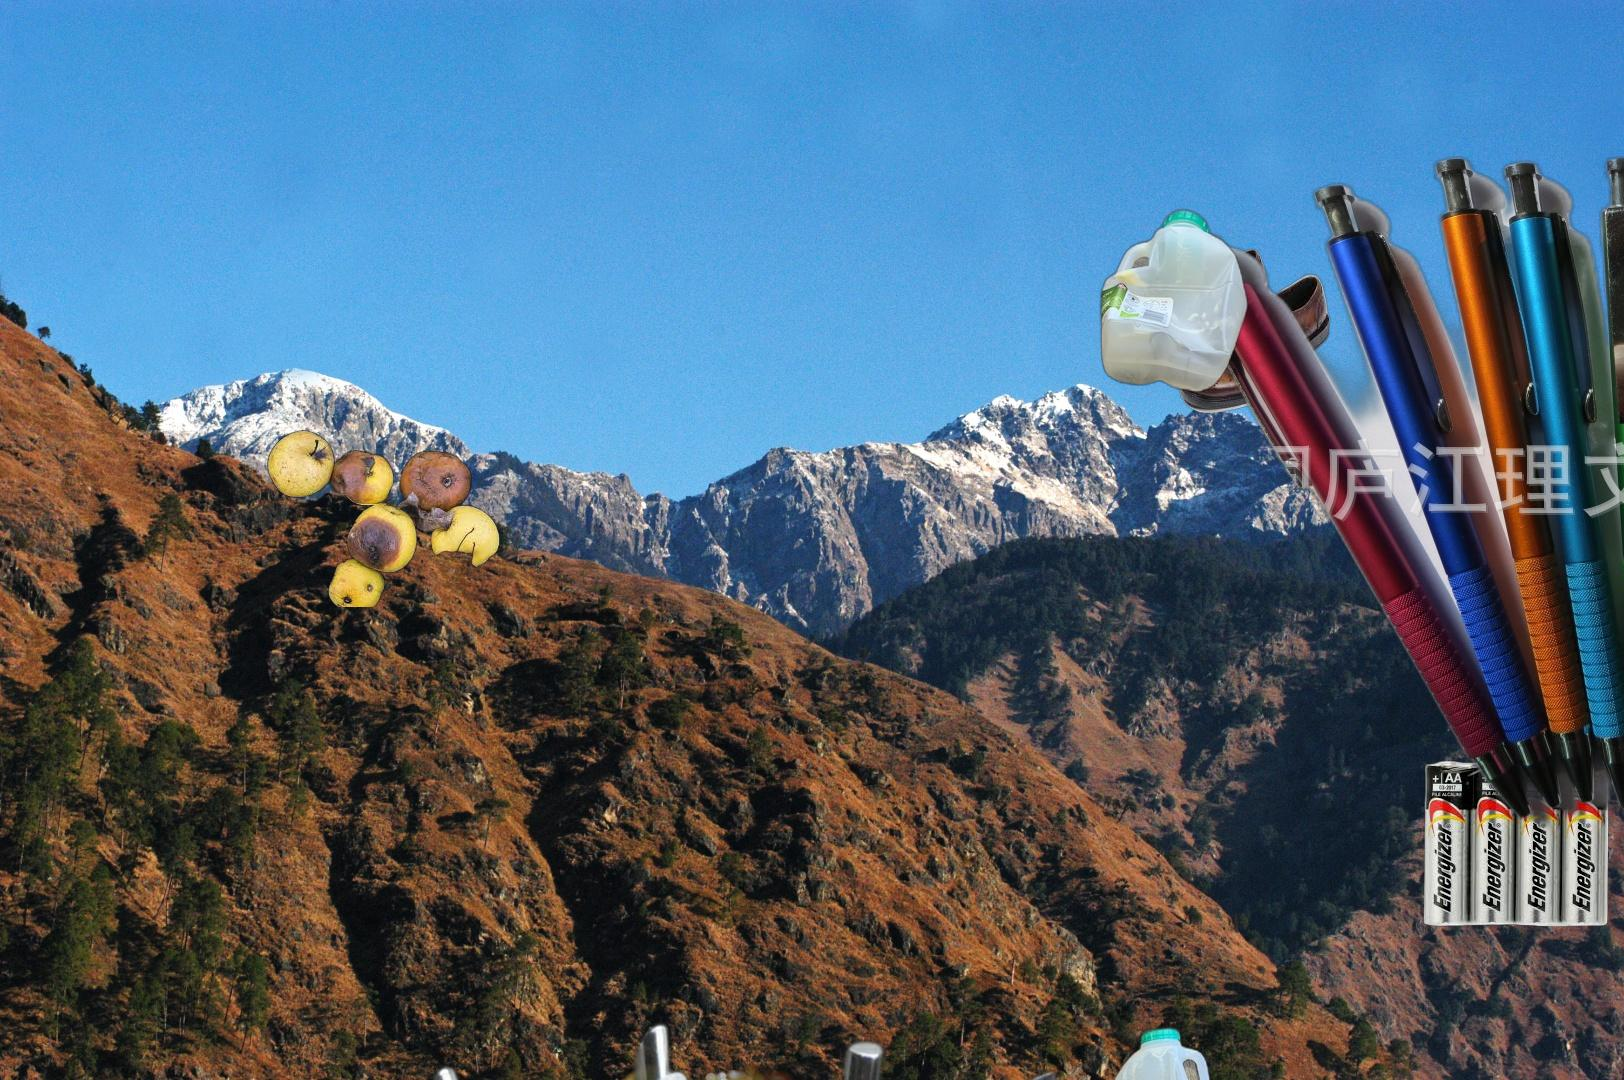battery: (1422, 757, 1616, 929)
biological: (265, 427, 504, 607), (551, 1033, 951, 1080)
penholder: (1172, 147, 1624, 839), (408, 1015, 1226, 1080)
plastic-bottles: (1096, 202, 1252, 398), (1102, 1022, 1220, 1080)
shoes: (1114, 246, 1343, 416)
